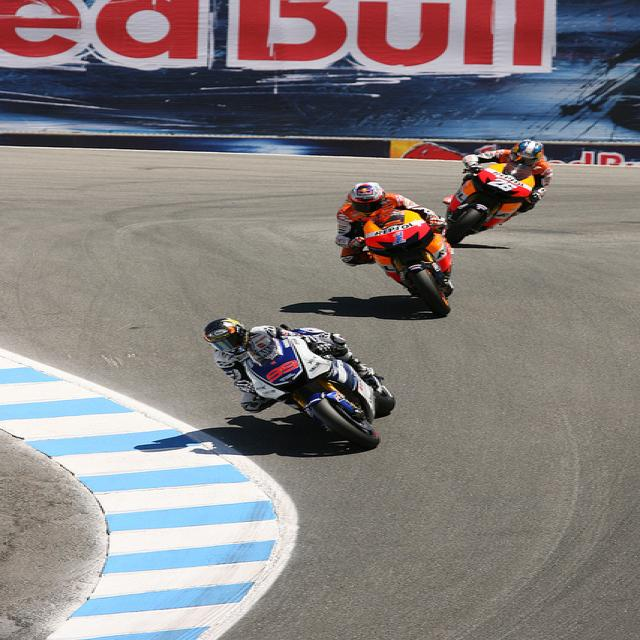motor: (246, 336, 381, 448), (363, 207, 458, 316), (439, 161, 538, 250)
